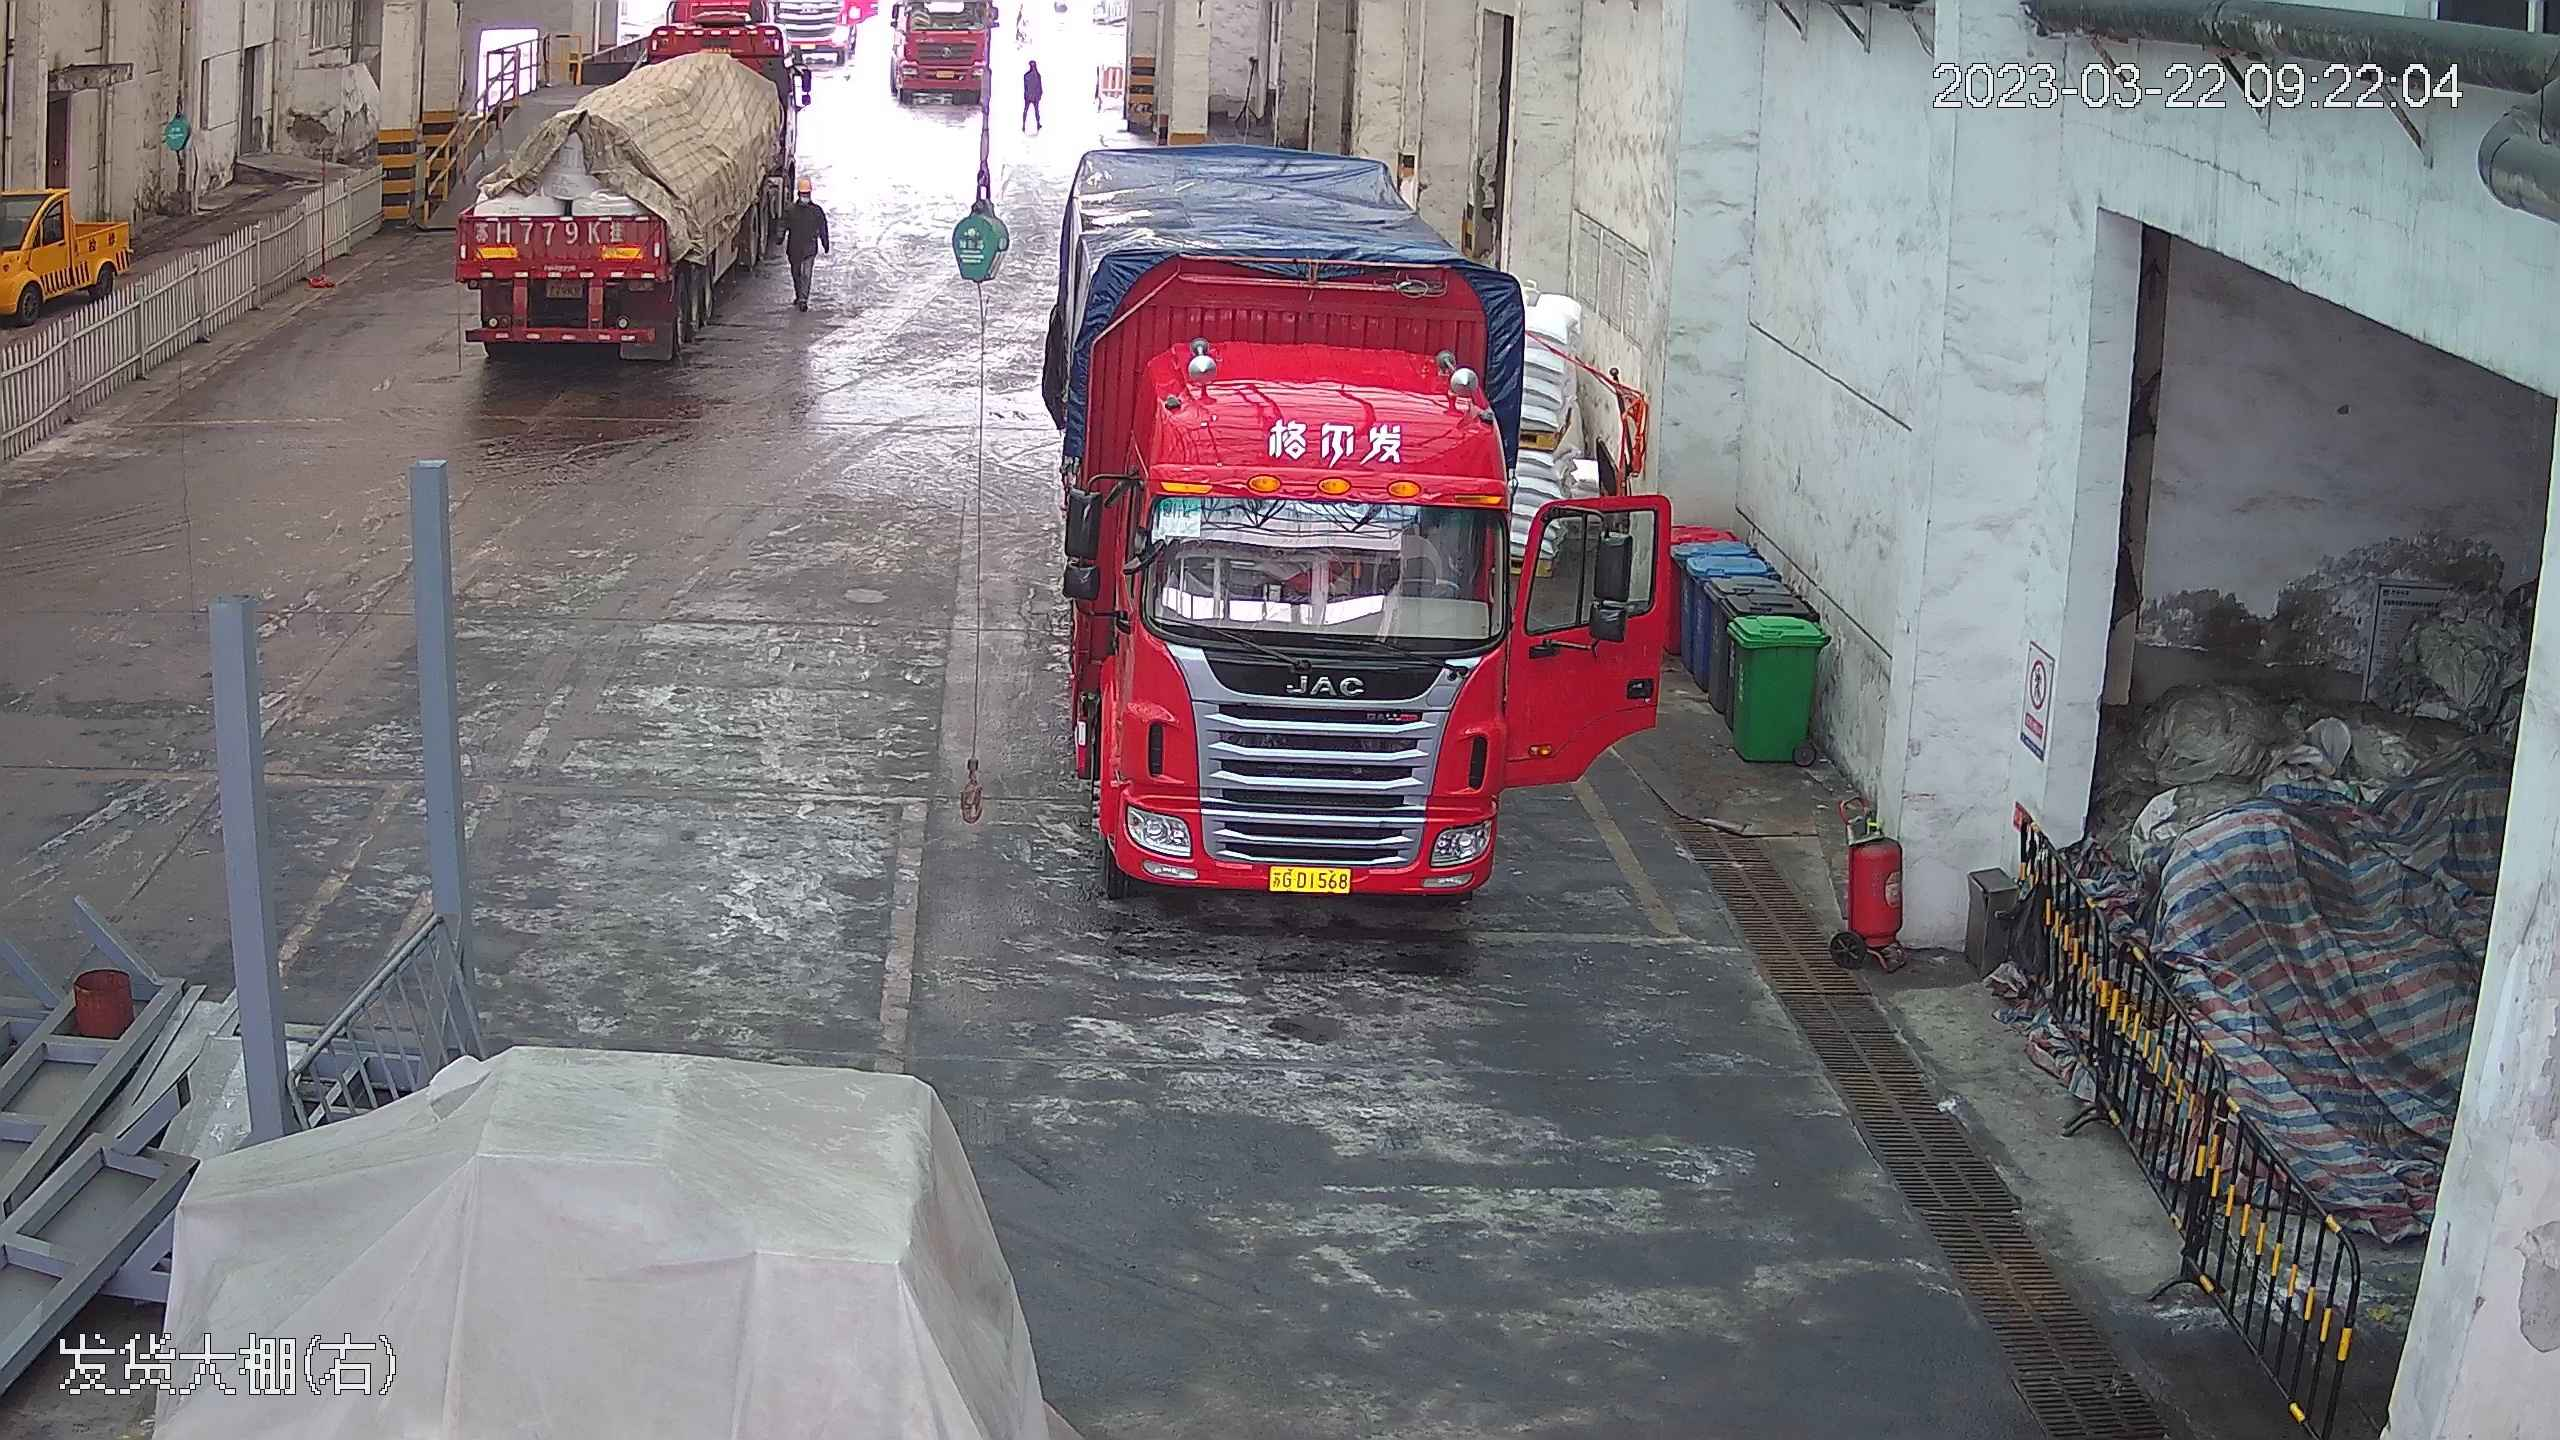head: (785, 172, 825, 220)
helmet: (794, 166, 813, 186)
people: (784, 171, 830, 317), (1019, 44, 1046, 131)
truck: (1027, 102, 1561, 916), (440, 10, 801, 357)
